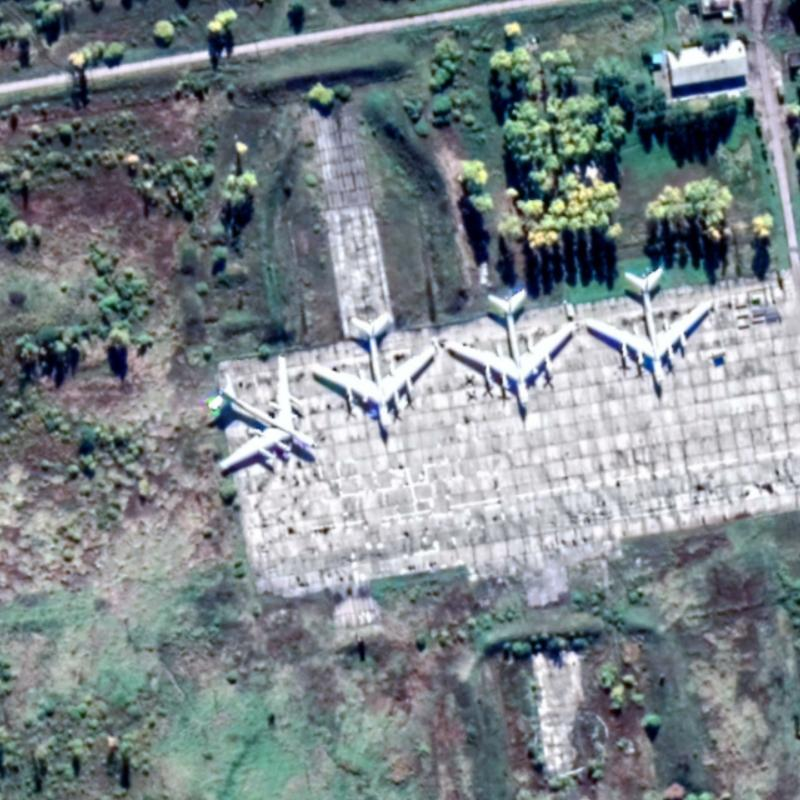A17: (440, 286, 572, 411), (581, 265, 713, 389), (305, 311, 436, 432), (205, 352, 320, 472)
